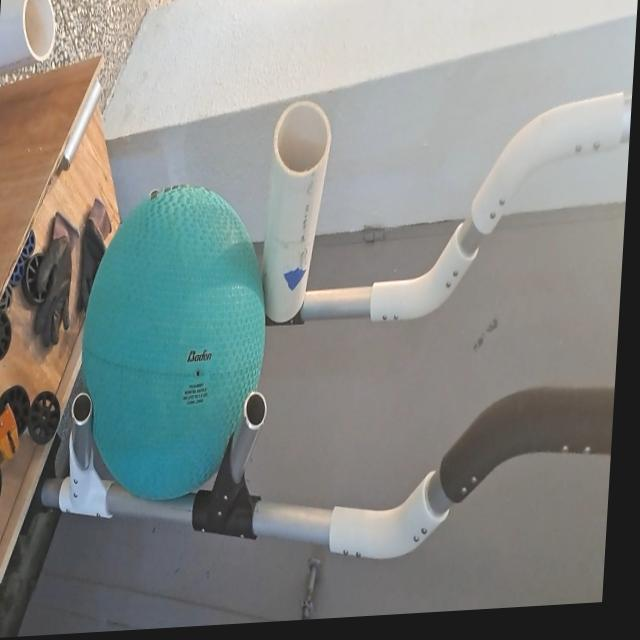ALGAE: (71, 179, 275, 508)
CORAL: (253, 94, 335, 331)
